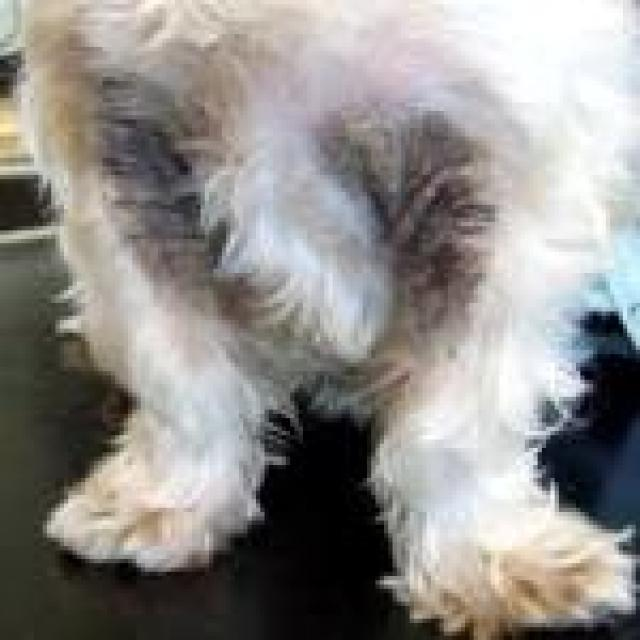fungal infection: (92, 60, 234, 280), (334, 107, 504, 290), (259, 292, 455, 411), (443, 542, 602, 628), (89, 485, 196, 556)
